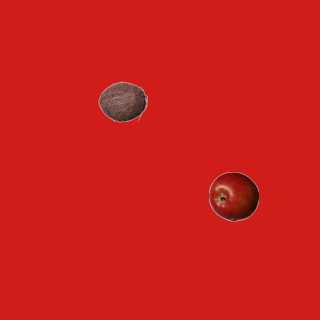Apple Braeburn: (208, 171, 258, 221)
Cocos: (97, 76, 147, 126)
